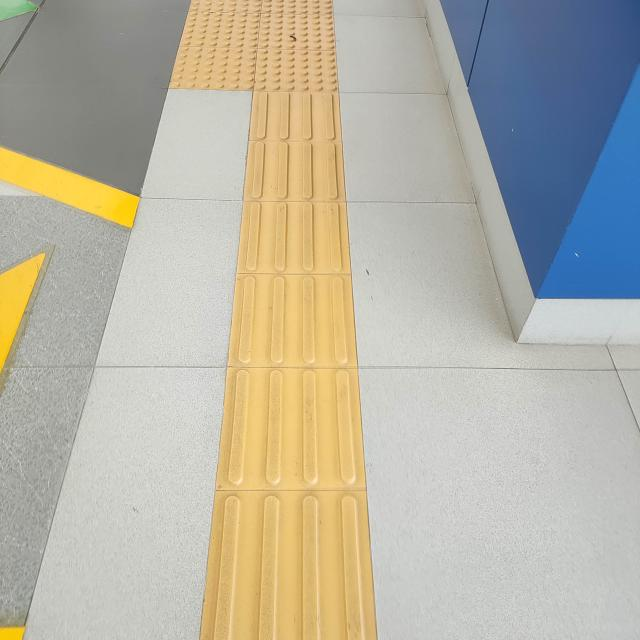lurus: (220, 94, 380, 640)
